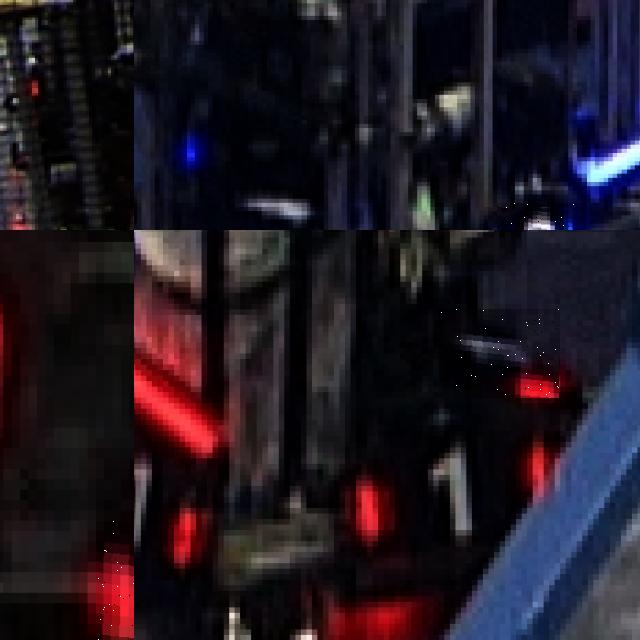B2: (497, 202, 586, 230)
R1: (345, 436, 555, 547), (439, 309, 560, 398), (134, 441, 201, 574)
